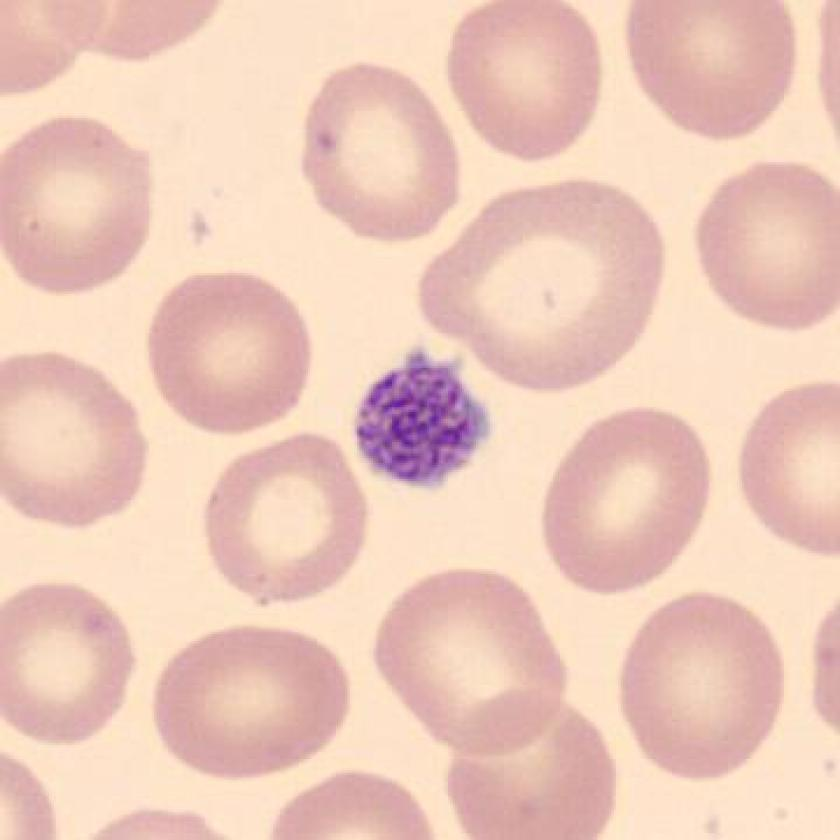platelets: (349, 344, 500, 503)
